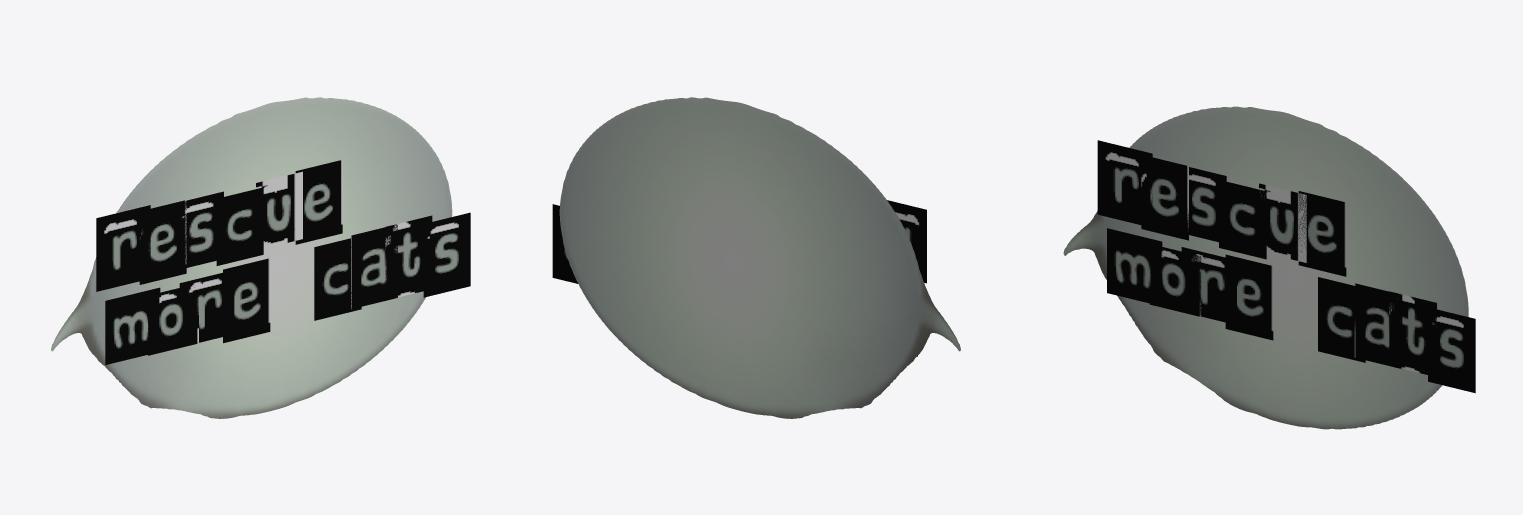
File: Cat Head Baloon.FBX
3 views of the same model, side by side, from view 1: azimuth 30°, elevation 25°; view 2: azimuth 150°, elevation 25°; view 3: azimuth 330°, elevation 25° (orthographic).
Parts seen in each view (by area): view 1: Baloon, Rescue new cats; view 2: Baloon, Rescue new cats; view 3: Baloon, Rescue new cats.
Part boxes in pixels (x1,y1,x2,y2): Baloon: (51,97,452,418); Rescue new cats: (96,160,470,364); Baloon: (559,97,960,418); Rescue new cats: (552,200,926,356); Baloon: (1063,106,1468,429); Rescue new cats: (1097,140,1475,393).
Size of the model in its own units: 144 by 3 by 107.
